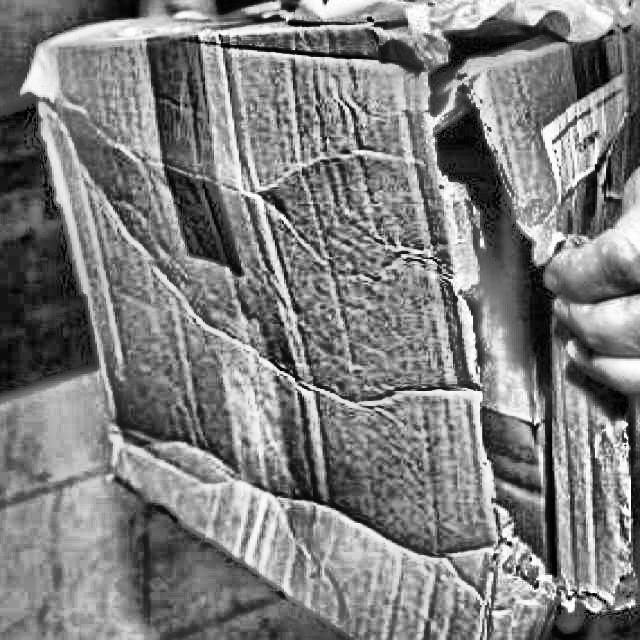box: (18, 0, 637, 639)
hole: (407, 26, 566, 592)
